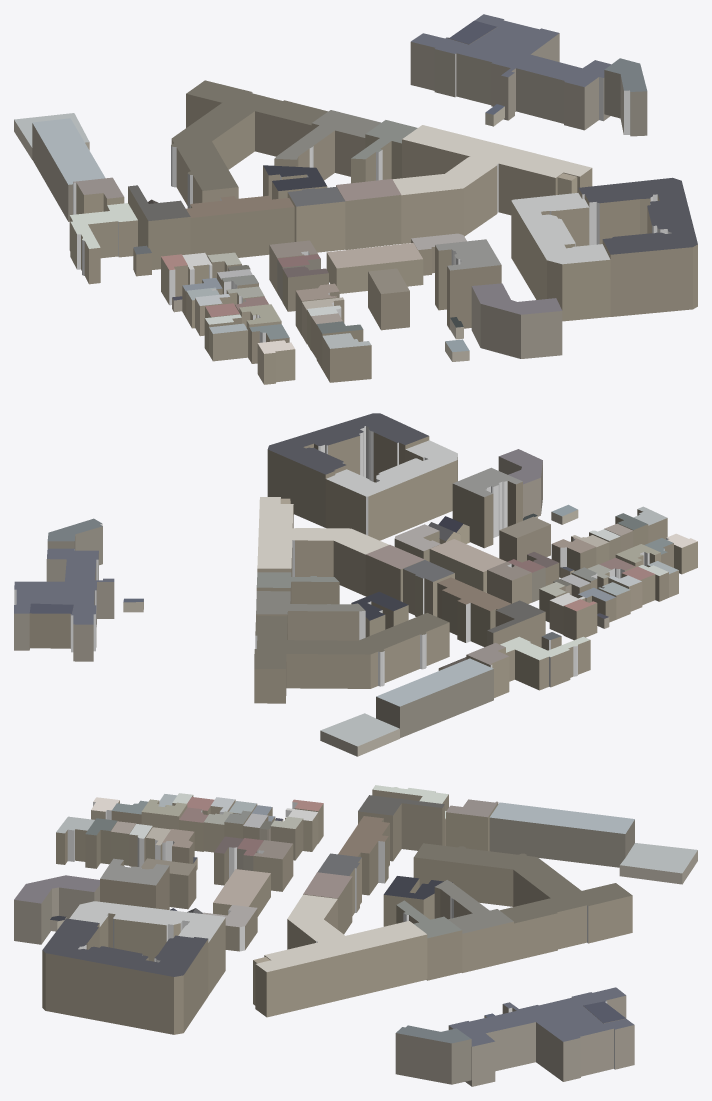
3 renders of one model, top to bottom at view 1: azimuth 30°, elevation 25°; view 2: azimuth 150°, elevation 25°; view 3: azimuth 270°, elevation 25°, orthographic. The views are drawn at different scales.
Parts seen in each view (by area): view 1: tuile; view 2: tuile; view 3: tuile.
Boxes of the visible parts, left/top/right/bottom form: tuile: left=14, top=14, right=697, bottom=384; tuile: left=14, top=413, right=697, bottom=756; tuile: left=14, top=785, right=697, bottom=1086.
Size of the model in its own units: 257 by 29.25 by 277.
